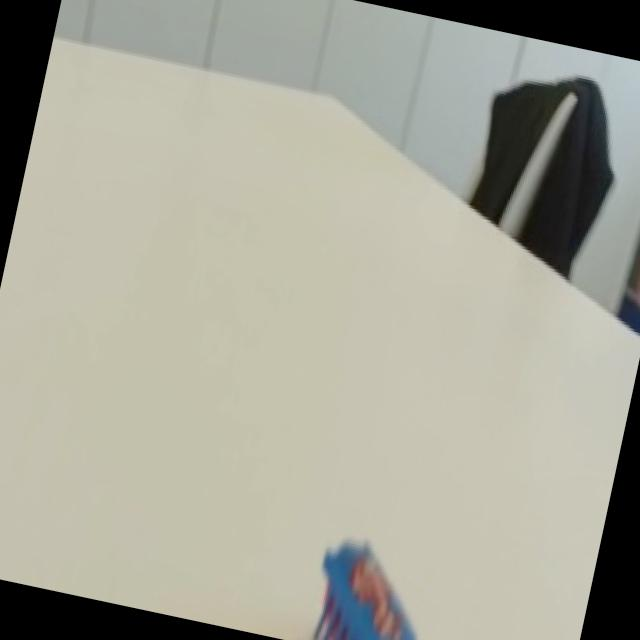1_NanoBug_Azul: (263, 491, 485, 640)
